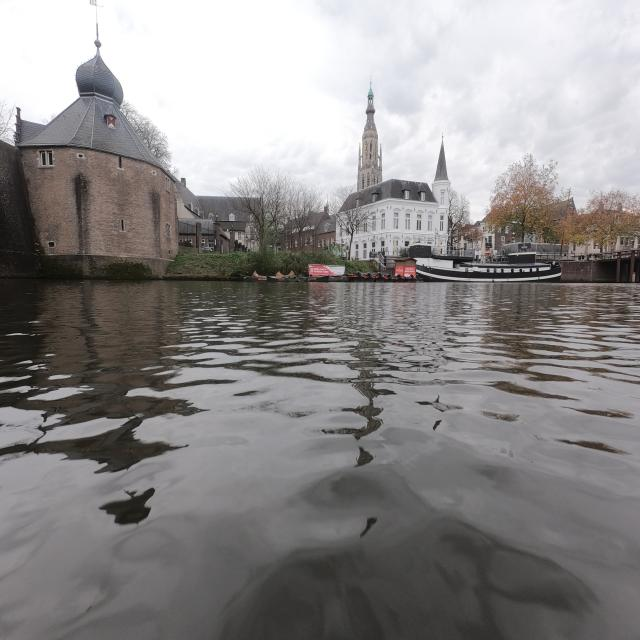boat: (424, 256, 558, 278)
grass: (174, 248, 278, 276), (316, 260, 390, 278)
sky: (100, 4, 638, 244), (2, 2, 94, 120)
wall: (11, 41, 182, 272), (0, 141, 39, 277), (560, 260, 620, 282)
water: (6, 290, 638, 634)
